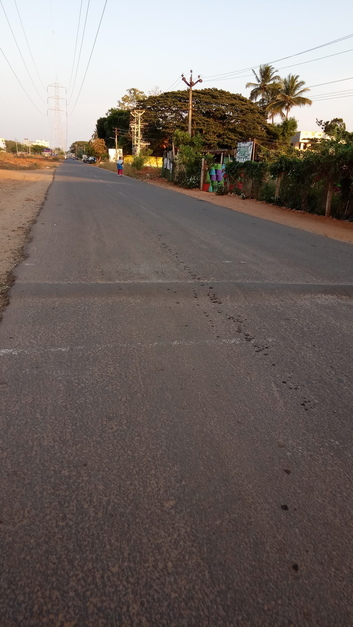bump: (11, 278, 353, 304)
